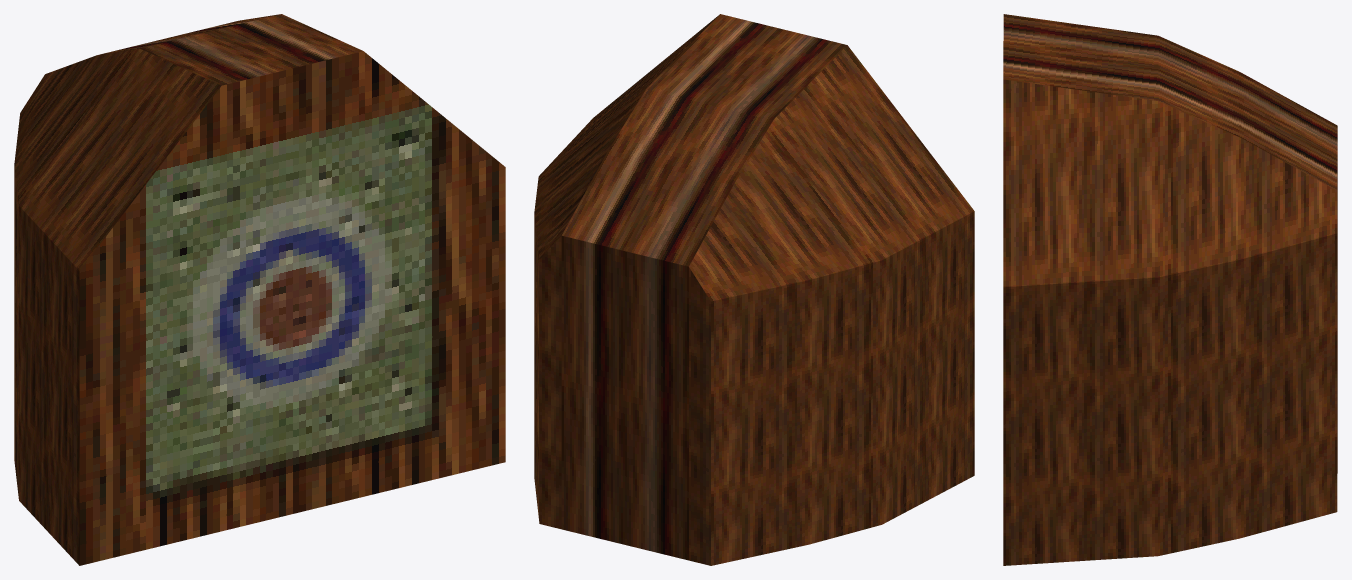
The model's file is QRGTarget.fbx.
3 views of the same model, side by side, from view 1: azimuth 30°, elevation 25°; view 2: azimuth 150°, elevation 25°; view 3: azimuth 270°, elevation 25° (orthographic). The views are drawn at different scales.
Visible parts, largest first — view 1: QRGTARGET; view 2: QRGTARGET; view 3: QRGTARGET.
Part boxes in pixels (bbox=[...]): QRGTARGET: bbox=[14, 14, 505, 565]; QRGTARGET: bbox=[534, 14, 974, 565]; QRGTARGET: bbox=[1003, 14, 1337, 565].
Bounding box in the file's own units: 10 × 10 × 7.2.
